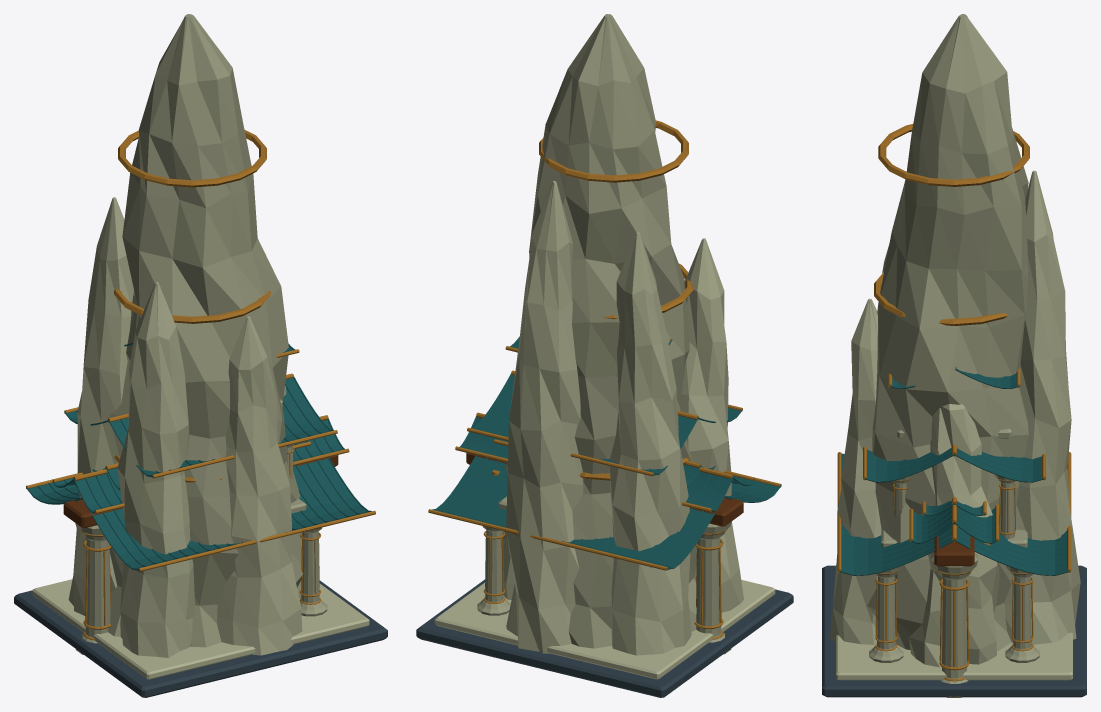
File: celestial_fall.glb
The picture shows the model from 3 angles, left to right: view 1: azimuth 30°, elevation 25°; view 2: azimuth 150°, elevation 25°; view 3: azimuth 270°, elevation 25°; orthographic projection.
Parts seen in each view (by area): view 1: Rock_stone_light, Rock_stone, Landmark_roof, Landmark_dark, Landmark_stone_light, Rock_trim, Landmark_trim, Gate_roof, Gate_stone, Landmark_stone, Gate_trim, Gate_wood; view 2: Rock_stone_light, Rock_stone, Landmark_roof, Landmark_dark, Landmark_stone_light, Landmark_trim, Gate_roof, Gate_stone, Rock_trim, Landmark_stone, Gate_trim, Gate_wood; view 3: Rock_stone, Rock_stone_light, Landmark_roof, Landmark_dark, Landmark_stone_light, Landmark_stone, Landmark_trim, Gate_stone, Rock_trim, Gate_roof, Gate_trim, Gate_wood.
Boxes of the visible parts, left/top/right/bottom form: Rock_stone_light: left=68, top=197, right=302, bottom=657; Rock_stone: left=108, top=14, right=302, bottom=647; Landmark_roof: left=26, top=343, right=371, bottom=570; Landmark_dark: left=14, top=580, right=387, bottom=697; Landmark_stone_light: left=32, top=579, right=369, bottom=679; Rock_trim: left=114, top=130, right=270, bottom=482; Landmark_trim: left=26, top=349, right=375, bottom=604; Gate_roof: left=53, top=419, right=344, bottom=513; Gate_stone: left=75, top=523, right=110, bottom=654; Landmark_stone: left=280, top=399, right=327, bottom=616; Gate_trim: left=52, top=415, right=349, bottom=640; Gate_wood: left=63, top=455, right=338, bottom=527; Rock_stone_light: left=503, top=181, right=743, bottom=655; Rock_stone: left=529, top=14, right=696, bottom=648; Landmark_roof: left=432, top=336, right=781, bottom=569; Landmark_dark: left=416, top=579, right=793, bottom=697; Landmark_stone_light: left=434, top=580, right=775, bottom=679; Landmark_trim: left=428, top=338, right=781, bottom=604; Gate_roof: left=459, top=416, right=754, bottom=511; Gate_stone: left=696, top=521, right=731, bottom=654; Rock_trim: left=539, top=120, right=693, bottom=480; Landmark_stone: left=477, top=496, right=651, bottom=615; Gate_trim: left=455, top=412, right=754, bottom=639; Gate_wood: left=466, top=452, right=743, bottom=526; Rock_stone: left=867, top=14, right=1028, bottom=651; Rock_stone_light: left=829, top=170, right=1080, bottom=667; Landmark_roof: left=839, top=368, right=1069, bottom=575; Landmark_dark: left=822, top=565, right=1086, bottom=697; Landmark_stone_light: left=836, top=565, right=1072, bottom=680; Landmark_stone: left=869, top=386, right=1039, bottom=662; Landmark_trim: left=837, top=366, right=1071, bottom=651; Gate_stone: left=931, top=552, right=977, bottom=697; Rock_trim: left=874, top=124, right=1029, bottom=325; Gate_roof: left=911, top=501, right=997, bottom=543; Gate_trim: left=909, top=497, right=999, bottom=681; Gate_wood: left=934, top=535, right=974, bottom=566.
Size of the model in its own units: 12 by 27.6 by 10.5.
